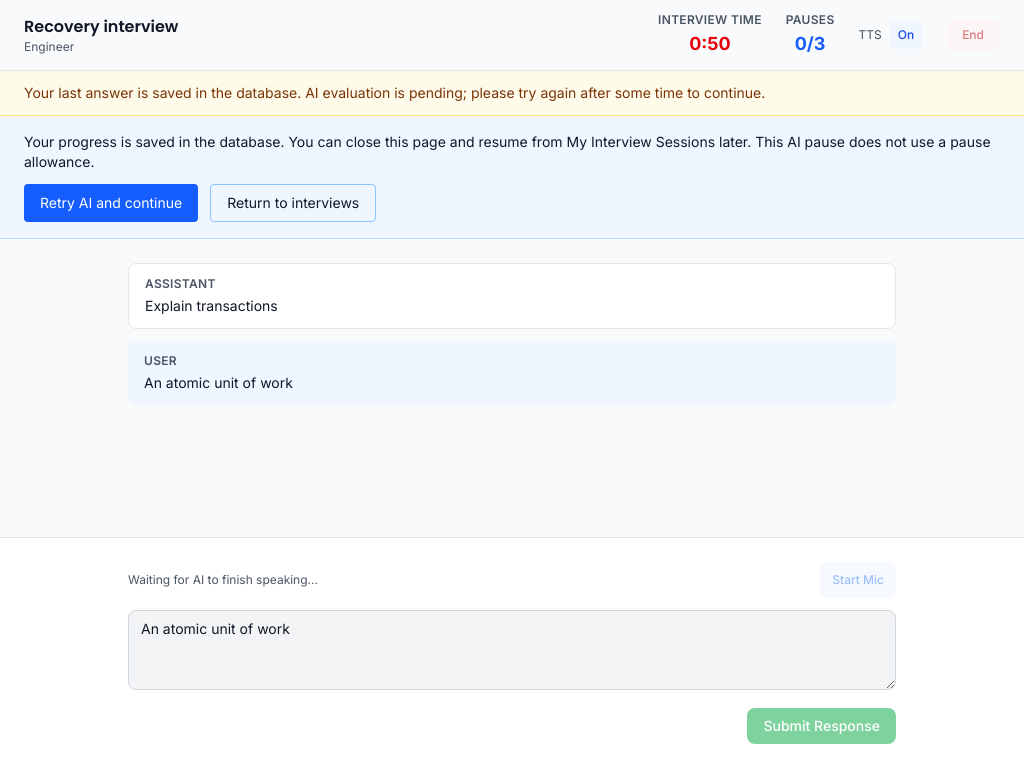
Test: database-backed interview recovery › restores a pending answer after remount and freezes the timer until AI succeeds
Expected: the text box holds "An atomic unit of work", top-left (128, 610), bottom-right (896, 690)
Expected: the text box is disabled, top-left (128, 610), bottom-right (896, 690)
Click the button "Retry AI and continue" at (111, 203), box top-left (24, 184), bottom-right (198, 222)
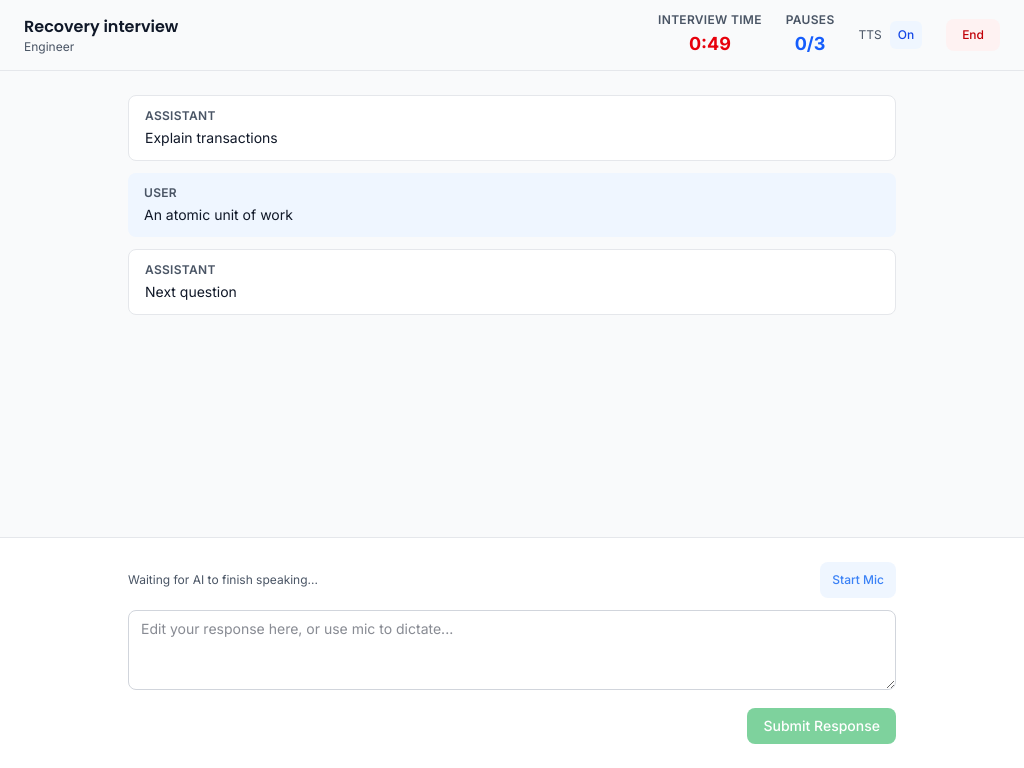
Now the text "Next question" is shown, box top-left (145, 283), bottom-right (237, 300)
Now the text box with placeholder "Edit your response here, or use mic to dictate..." is enabled, box top-left (128, 610), bottom-right (896, 690)
Now the text box with placeholder "Edit your response here, or use mic to dictate..." is empty, box top-left (128, 610), bottom-right (896, 690)
